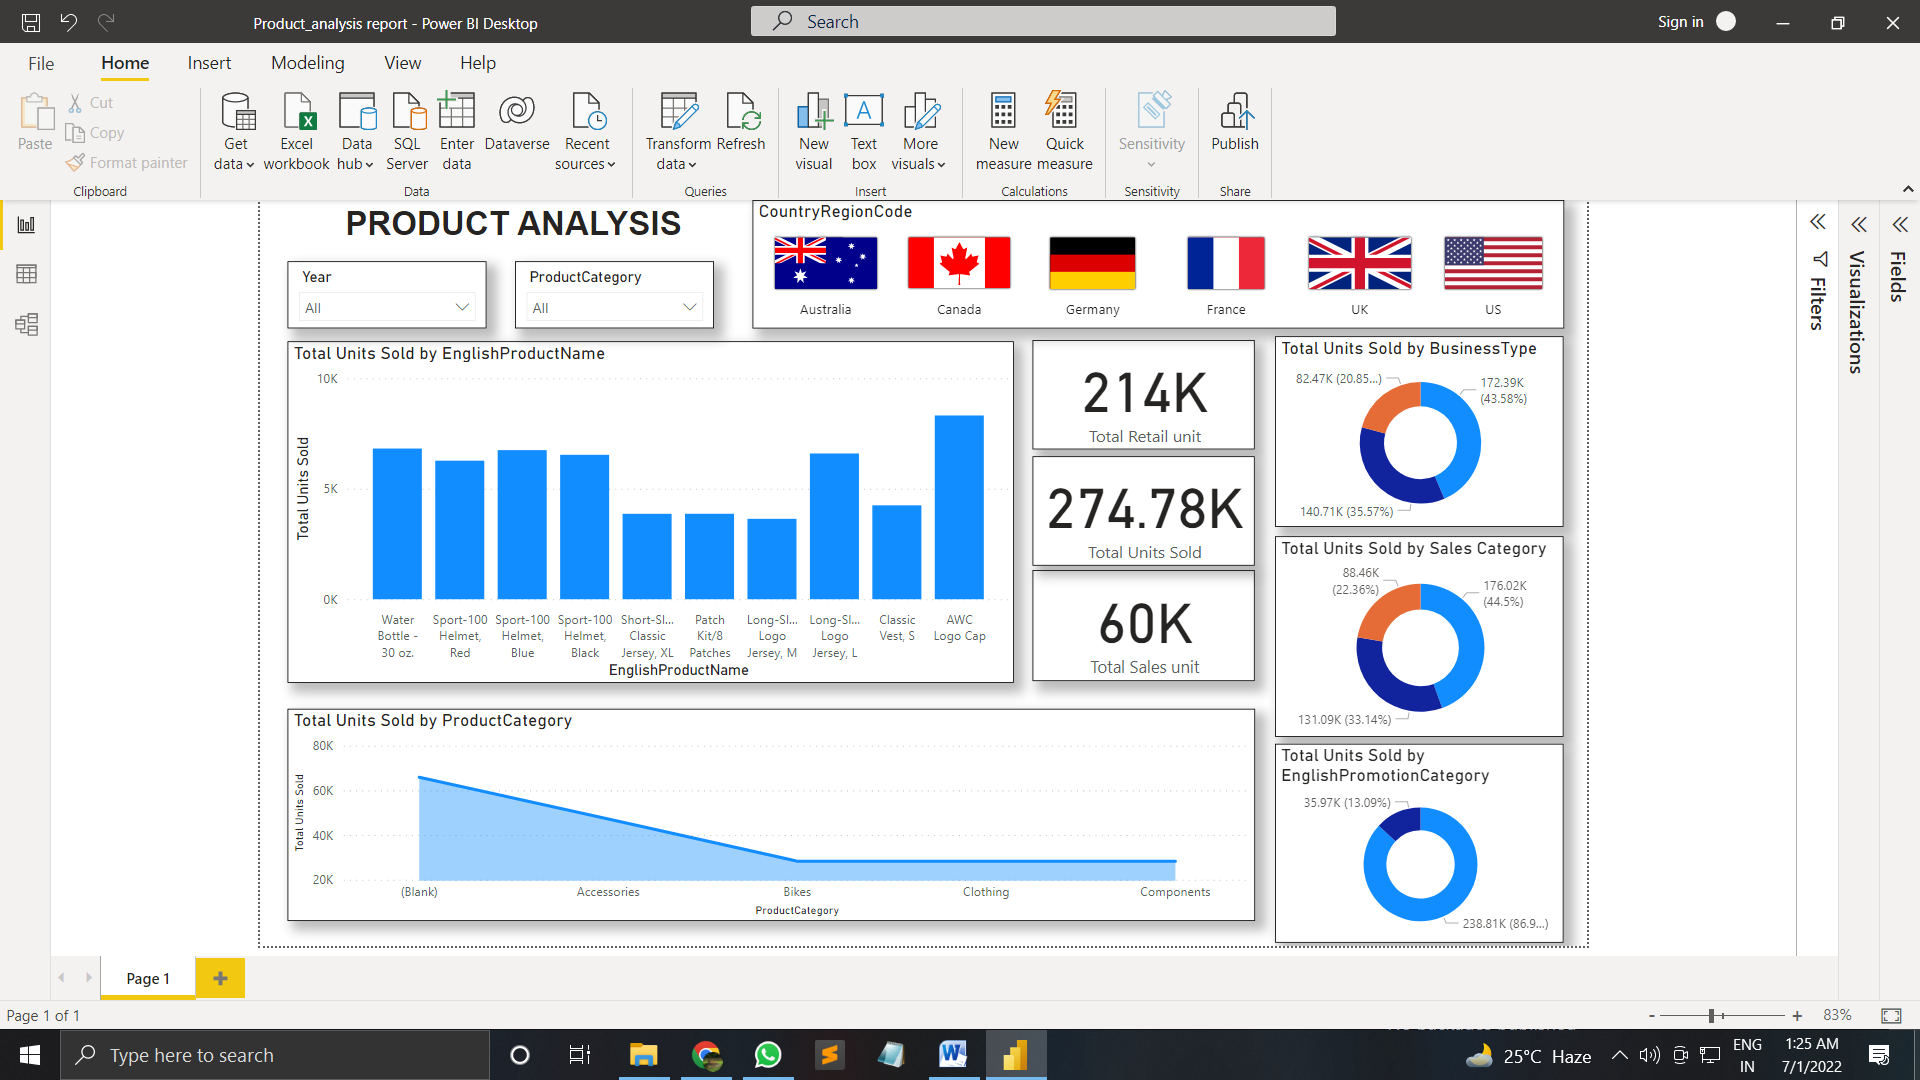

The page's visual inventory and layout, read from the dashboard file:
{"tool":"powerbi","page":{"name":"Page 1","canvas":[1280,720],"ordinal":0},"visuals":[{"type":"card","fields":{"Values":["Important Measures.Total Retail unit"]},"box":[745.8,134.6,214.2,105.8],"z":0},{"type":"enlightenWorldFlagsE887F52F76244B1C927F80CF9724AEF6","fields":{"code":["Region.CountryRegionCode"]},"box":[475.2,0,782.8,123.6],"z":1000},{"type":"card","fields":{"Values":["Important Measures.Total Sales unit"]},"box":[745.8,357.1,214.2,107.1],"z":2000},{"type":"card","fields":{"Values":["Important Measures.Total Units Sold"]},"box":[745.8,247.2,214.2,105.8],"z":3000},{"type":"donutChart","fields":{"Category":["RetailsCounters.BusinessType"],"Y":["Important Measures.Total Units Sold"]},"box":[979.2,131.8,278.8,184],"z":4000},{"type":"donutChart","fields":{"Category":["RetailSales.Sales Category"],"Y":["Important Measures.Total Units Sold"]},"box":[979.2,324.1,278.8,193.6],"z":5000},{"type":"clusteredColumnChart","fields":{"Category":["Product.EnglishProductName"],"Y":["Important Measures.Total Units Sold"]},"box":[26.1,136,700.4,329.6],"z":6000},{"type":"donutChart","fields":{"Category":["Product Promotion.EnglishPromotionCategory"],"Y":["Important Measures.Total Units Sold"]},"box":[979.2,524.6,278.8,192.3],"z":7000},{"type":"stackedAreaChart","fields":{"Y":["Important Measures.Total Units Sold"],"Category":["Product Category.ProductCategory"]},"box":[26.1,490.3,933.9,204.6],"z":8000},{"type":"slicer","fields":{"Values":["DimTable.Year"]},"box":[26.1,59.1,192.3,64.5],"z":9000},{"type":"slicer","fields":{"Values":["Product Category.ProductCategory"]},"box":[245.8,59.1,192.3,64.5],"z":10000},{"type":"textbox","box":[76.9,0,351.6,46.7],"z":11000}]}

Visuals, with their boxes on the page's 1280x720 design canvas (x1, y1, x2, y2). These are canvas units, not pixel positions in the 1920x1080 screenshot, which may show the page scaled, cropped or inside an application window:
card - Important Measures.Total Retail unit: (left=746, top=135, right=960, bottom=240)
enlightenWorldFlagsE887F52F76244B1C927F80CF9724AEF6 - Region.CountryRegionCode: (left=475, top=0, right=1258, bottom=124)
card - Important Measures.Total Sales unit: (left=746, top=357, right=960, bottom=464)
card - Important Measures.Total Units Sold: (left=746, top=247, right=960, bottom=353)
donutChart - RetailsCounters.BusinessType x Important Measures.Total Units Sold: (left=979, top=132, right=1258, bottom=316)
donutChart - RetailSales.Sales Category x Important Measures.Total Units Sold: (left=979, top=324, right=1258, bottom=518)
clusteredColumnChart - Product.EnglishProductName x Important Measures.Total Units Sold: (left=26, top=136, right=726, bottom=466)
donutChart - Product Promotion.EnglishPromotionCategory x Important Measures.Total Units Sold: (left=979, top=525, right=1258, bottom=717)
stackedAreaChart - Important Measures.Total Units Sold x Product Category.ProductCategory: (left=26, top=490, right=960, bottom=695)
slicer - DimTable.Year: (left=26, top=59, right=218, bottom=124)
slicer - Product Category.ProductCategory: (left=246, top=59, right=438, bottom=124)
textbox: (left=77, top=0, right=428, bottom=47)
